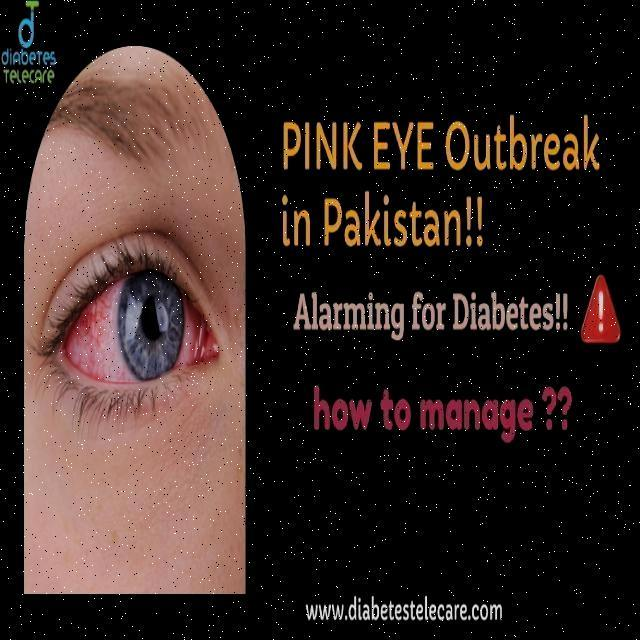Conjunctivitis: (54, 278, 220, 386)
